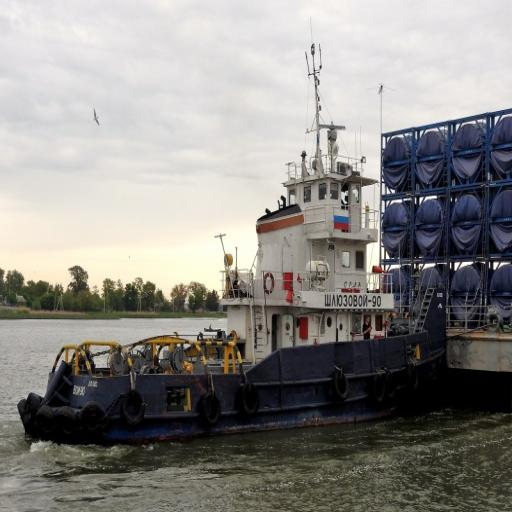tugboat: (16, 42, 453, 454)
